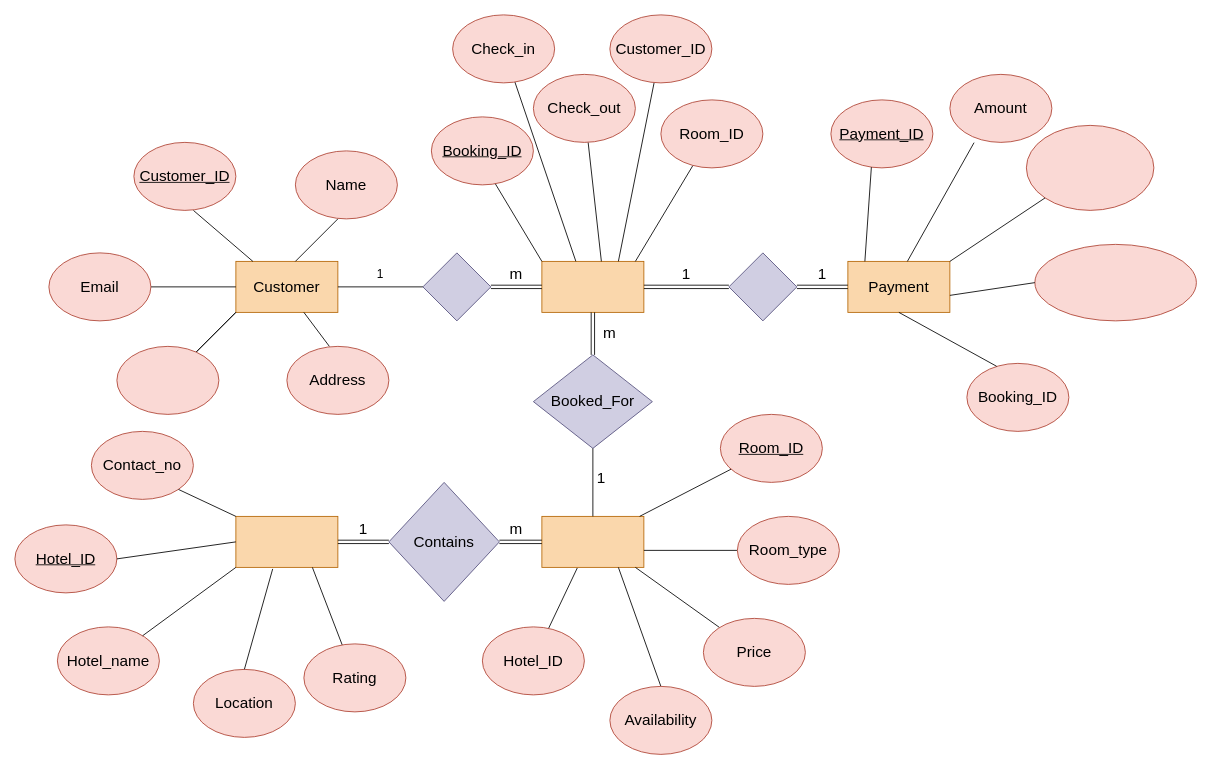
The diagram is 1211 pixels wide and 769 high, and some of its shapes have lost their labels. Here are the shapes that lost their labels. From the top down, the box of each, then its label:
(1026, 125, 1154, 210): Payment_Method
(422, 252, 491, 321): Makes
(541, 261, 644, 312): Booking
(728, 252, 797, 321): Has
(1034, 244, 1196, 321): Payment_Date
(116, 346, 219, 414): Phone_no
(235, 516, 338, 567): Hotel
(541, 516, 644, 567): Room
